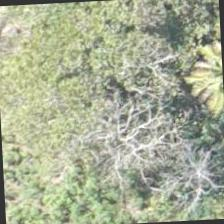Kelapa_Sawit: (164, 20, 223, 114)
